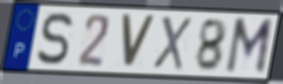2: (75, 13, 111, 69)
8: (194, 17, 230, 73)
M: (223, 17, 276, 77)
S: (35, 11, 75, 67)
V: (120, 12, 158, 71)
X: (151, 15, 194, 72)
